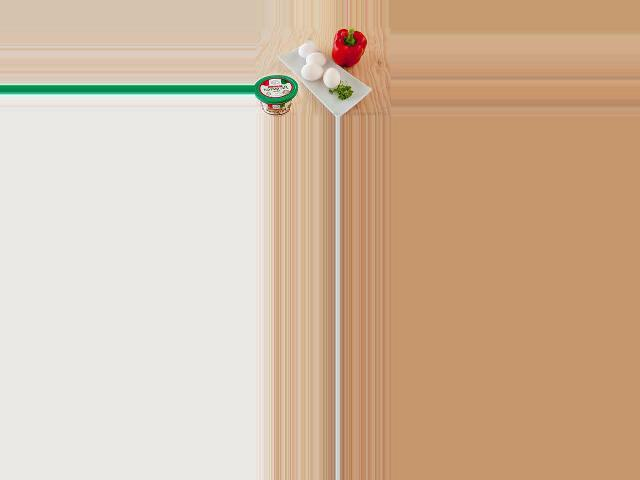bell_pepper: (325, 29, 369, 66)
